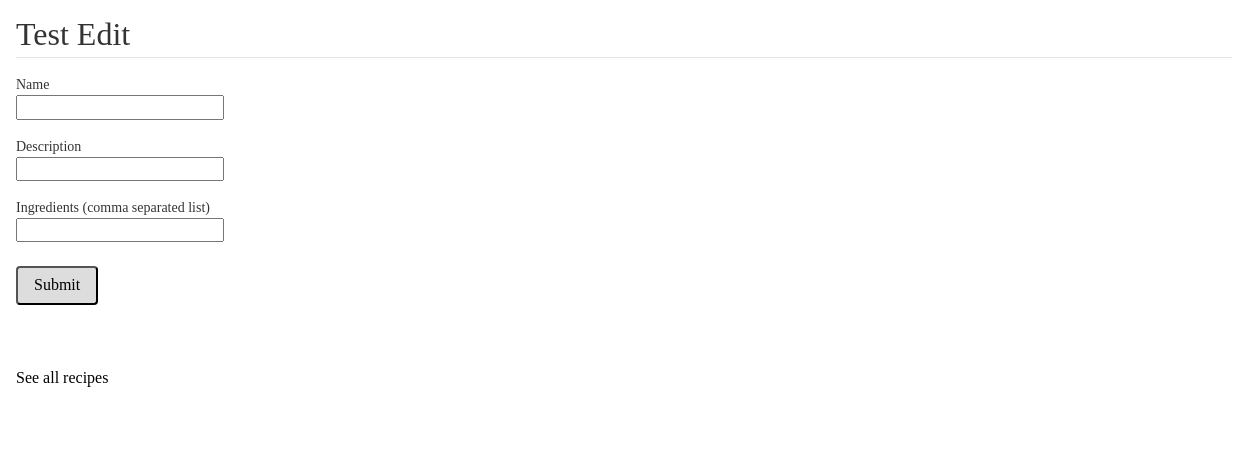
edit a Recipe - happy path
This screenshot has width=1249, height=459.
Expected: the heading reads "Test Edit", [16, 16, 130, 52]
Expected: the link reads "See all recipes", [16, 369, 124, 387]
Type "My second best recipe" into the field labelled "Name". click: [120, 107]
box: [16, 95, 224, 120]
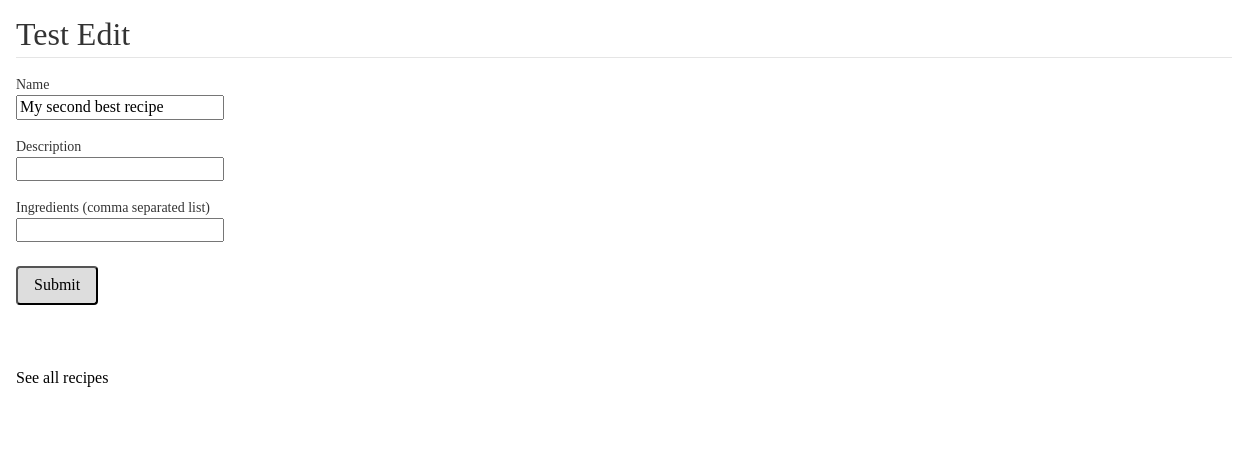
Type "Could be easier" into the field labelled "Description". click: [120, 169]
box: [16, 157, 224, 181]
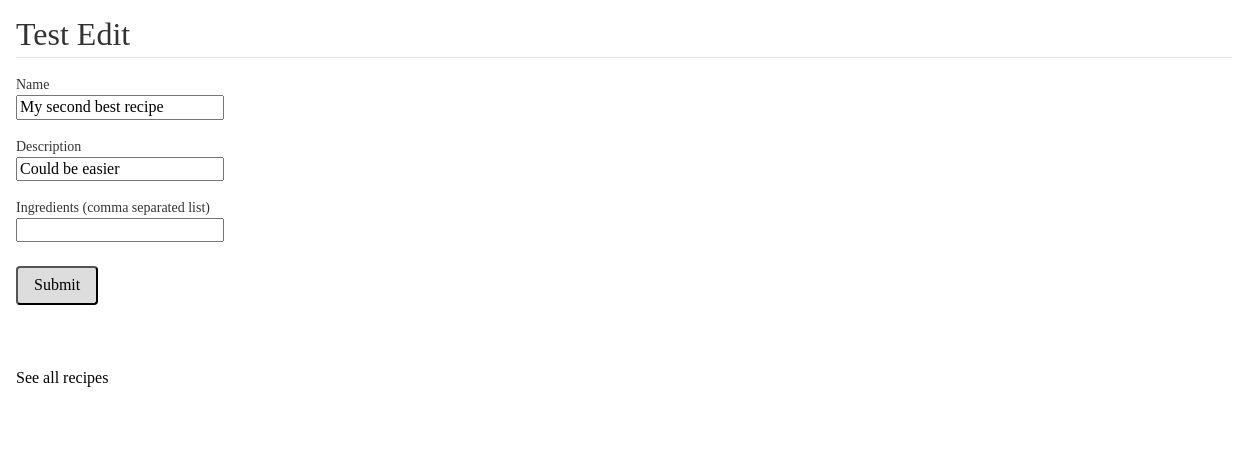
Type "Secret ingredient, Public ingredient" into the field labelled "Ingredients (comma separated list)". click: [120, 230]
box: [16, 218, 224, 242]
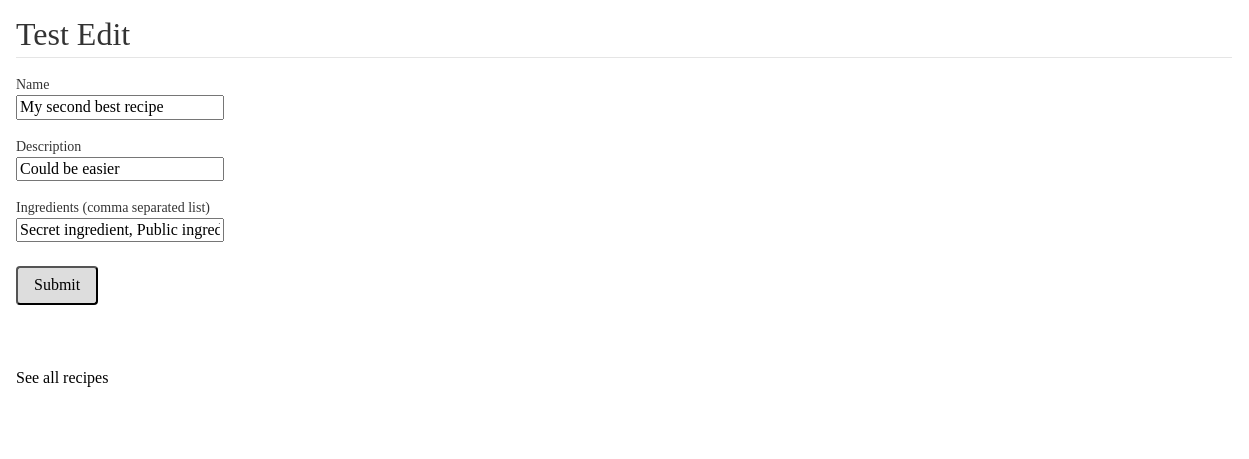
Click the button. click: [57, 286]
box: [16, 266, 98, 305]
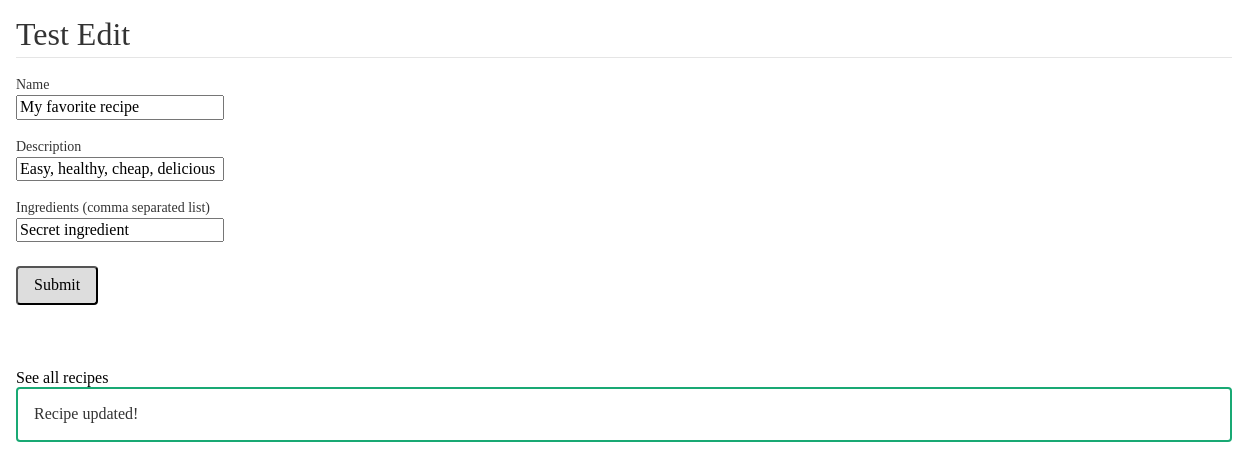
Expected: the text "Recipe updated!" is shown, [16, 387, 1232, 442]
